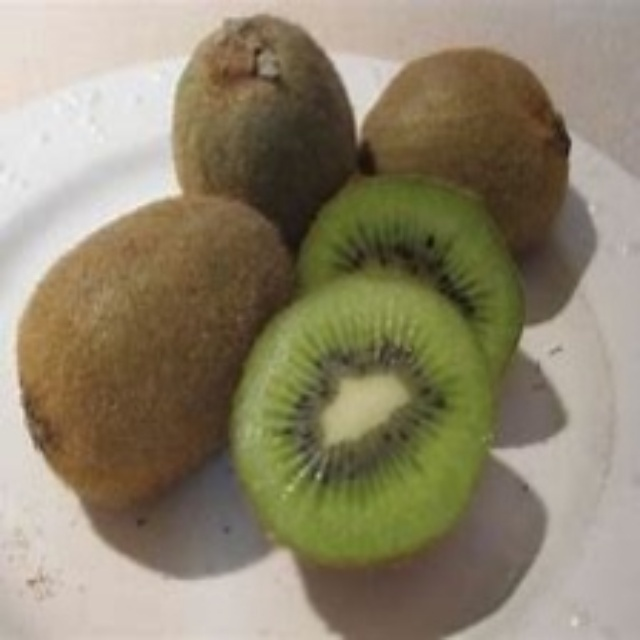kiwi: (240, 170, 508, 570), (21, 192, 279, 504), (363, 43, 564, 253), (183, 18, 353, 227)
